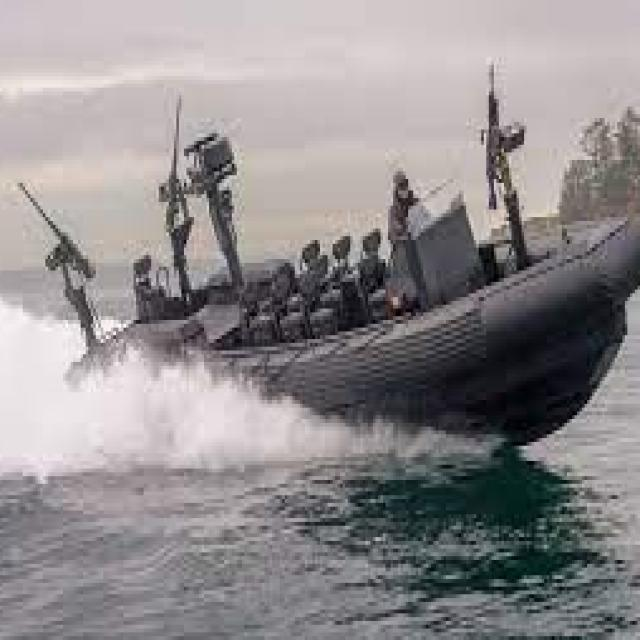houseboat: (33, 103, 640, 442)
